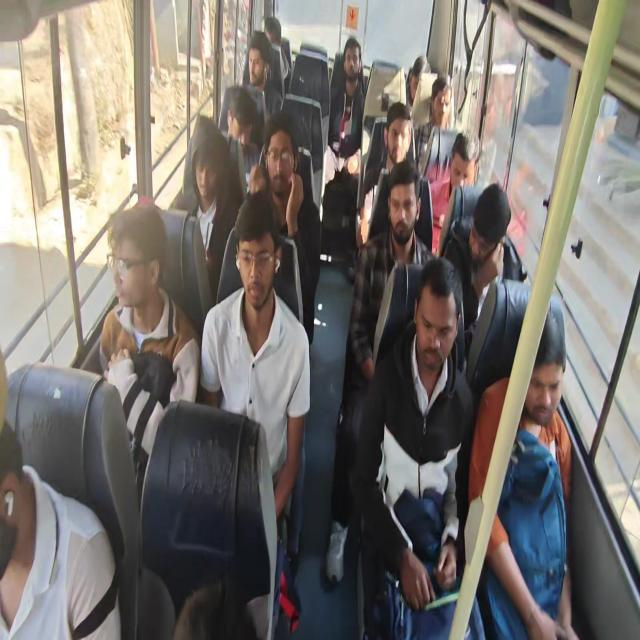person: (92, 22, 578, 637), (350, 256, 486, 638), (324, 160, 438, 584), (199, 190, 311, 561), (467, 295, 579, 639), (98, 202, 201, 502), (0, 419, 122, 639), (443, 182, 532, 396), (247, 112, 321, 344), (357, 102, 433, 251), (184, 116, 241, 301), (321, 36, 365, 274), (437, 131, 480, 257), (242, 30, 283, 132), (225, 86, 262, 194), (418, 75, 452, 178), (263, 15, 292, 100), (405, 54, 430, 110), (429, 75, 452, 131)
